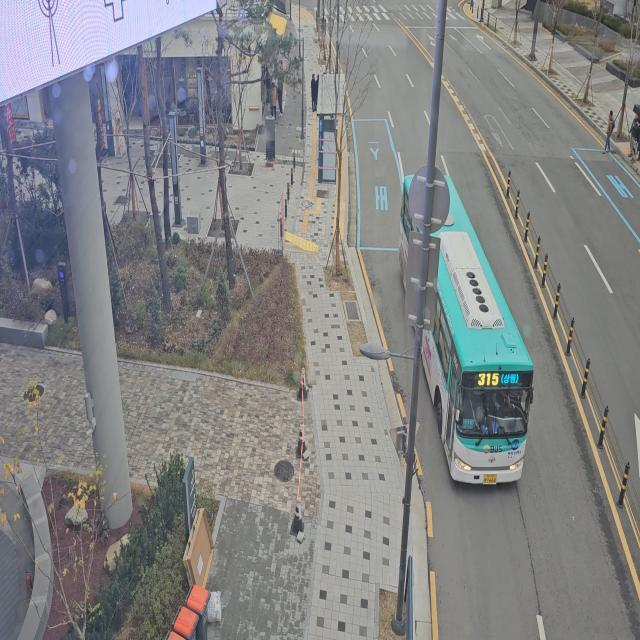Bus: (396, 148, 543, 521)
